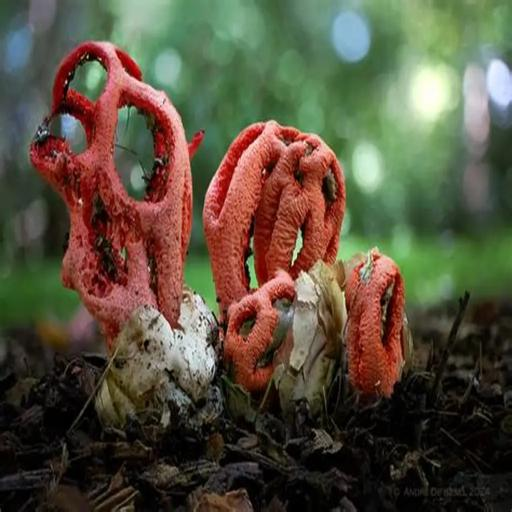Red Cage Fungus: (32, 42, 217, 445), (225, 259, 411, 404), (199, 116, 349, 293)
